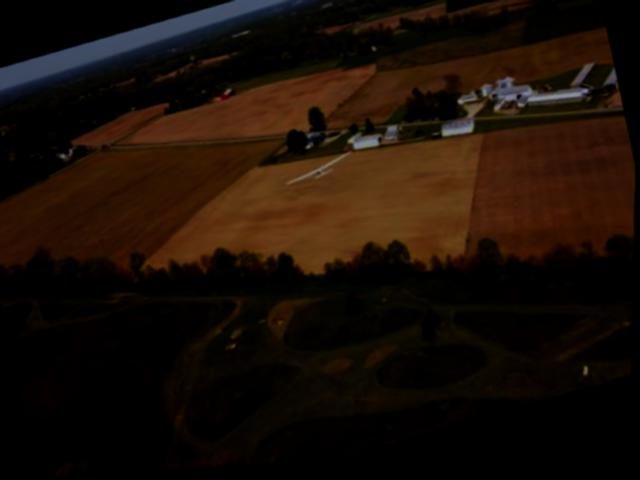uav: (274, 142, 368, 206)
